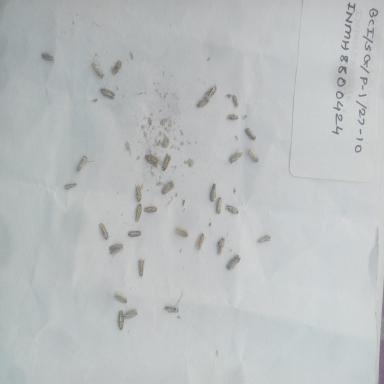pbw: (87, 58, 107, 80), (97, 85, 118, 105), (38, 48, 58, 65), (225, 253, 241, 273), (195, 231, 207, 257), (144, 151, 160, 169), (109, 241, 124, 260), (75, 154, 89, 174), (97, 220, 110, 240), (160, 180, 176, 196), (110, 58, 122, 79), (116, 308, 126, 333), (112, 290, 128, 305), (137, 255, 147, 279), (160, 152, 172, 172), (206, 84, 219, 102), (228, 150, 244, 164), (216, 236, 227, 256), (131, 184, 143, 202), (224, 202, 239, 216), (243, 126, 256, 142), (174, 226, 190, 239), (248, 148, 261, 163), (163, 304, 179, 316), (134, 202, 143, 223), (210, 181, 218, 204), (124, 307, 138, 320), (195, 97, 208, 111), (257, 233, 272, 245), (224, 112, 240, 123), (144, 204, 158, 215), (63, 181, 78, 191), (128, 228, 141, 238), (231, 91, 239, 107), (216, 195, 222, 214)
